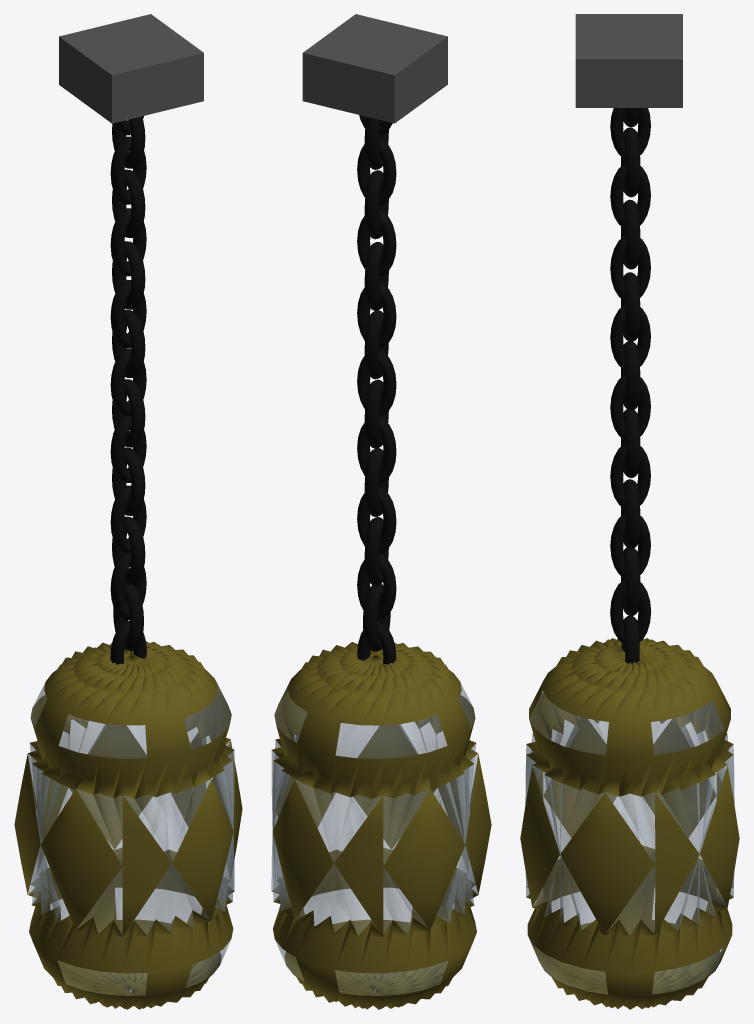
Rendered from Lantern.fbx.
The picture shows the model from 3 angles, left to right: view 1: azimuth 30°, elevation 25°; view 2: azimuth 150°, elevation 25°; view 3: azimuth 270°, elevation 25°; orthographic projection.
Parts seen in each view (by area): view 1: pTorus19; view 2: pTorus19; view 3: pTorus19.
Boxes of the visible parts, left/top/right/bottom form: pTorus19: left=14, top=14, right=242, bottom=1009; pTorus19: left=271, top=14, right=491, bottom=1009; pTorus19: left=520, top=14, right=739, bottom=1009.
Bounding box in the file's own units: 0.4093 × 1.97 × 0.4105.
